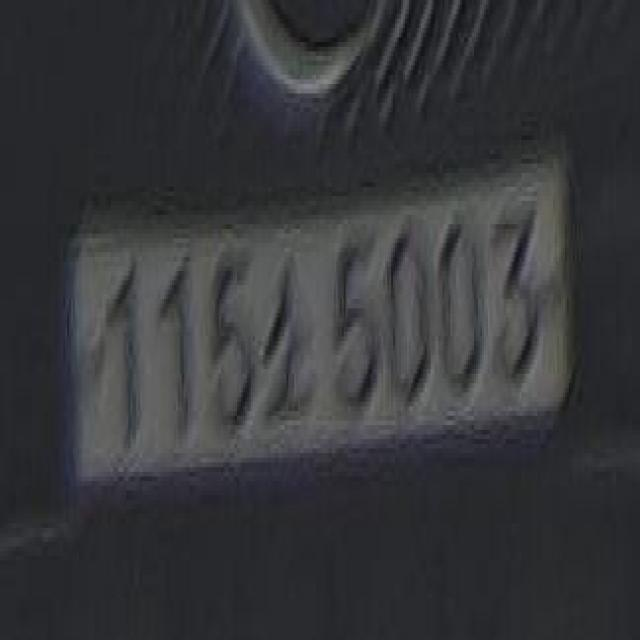illegal_plate: (56, 173, 570, 497)
